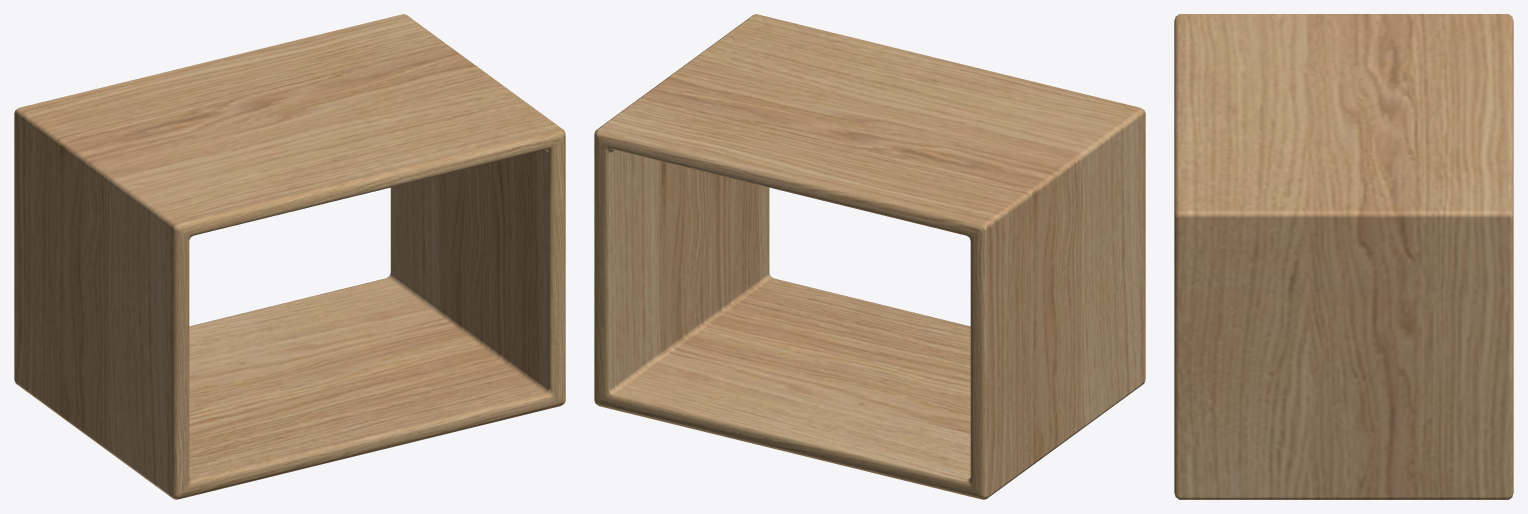
3 views of the same model, side by side, from view 1: azimuth 30°, elevation 25°; view 2: azimuth 150°, elevation 25°; view 3: azimuth 270°, elevation 25° (orthographic). The views are drawn at different scales.
Parts seen in each view (by area): view 1: Ke_go; view 2: Ke_go; view 3: Ke_go.
Part boxes in pixels (box(x1,y1,x2,y2)): Ke_go: box(14, 14, 565, 499); Ke_go: box(594, 14, 1145, 499); Ke_go: box(1174, 14, 1513, 499).
Size of the model in its own units: 13.31 by 8.95 by 9.52.
